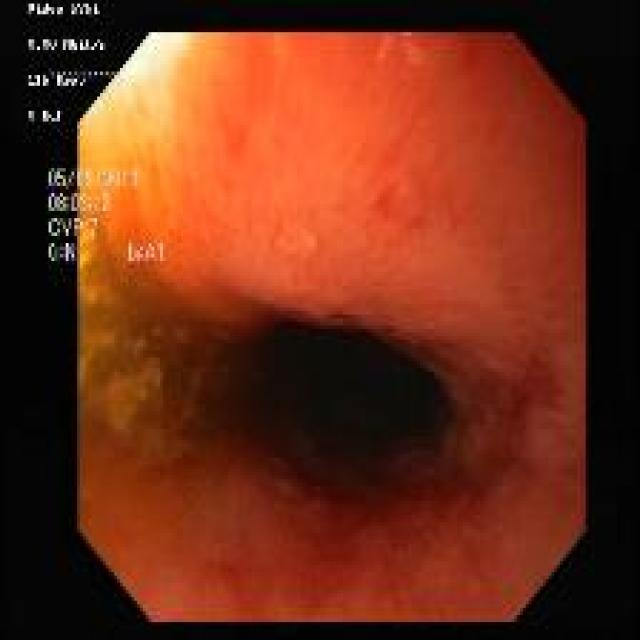ulcerative-colitis: (80, 33, 585, 622)
